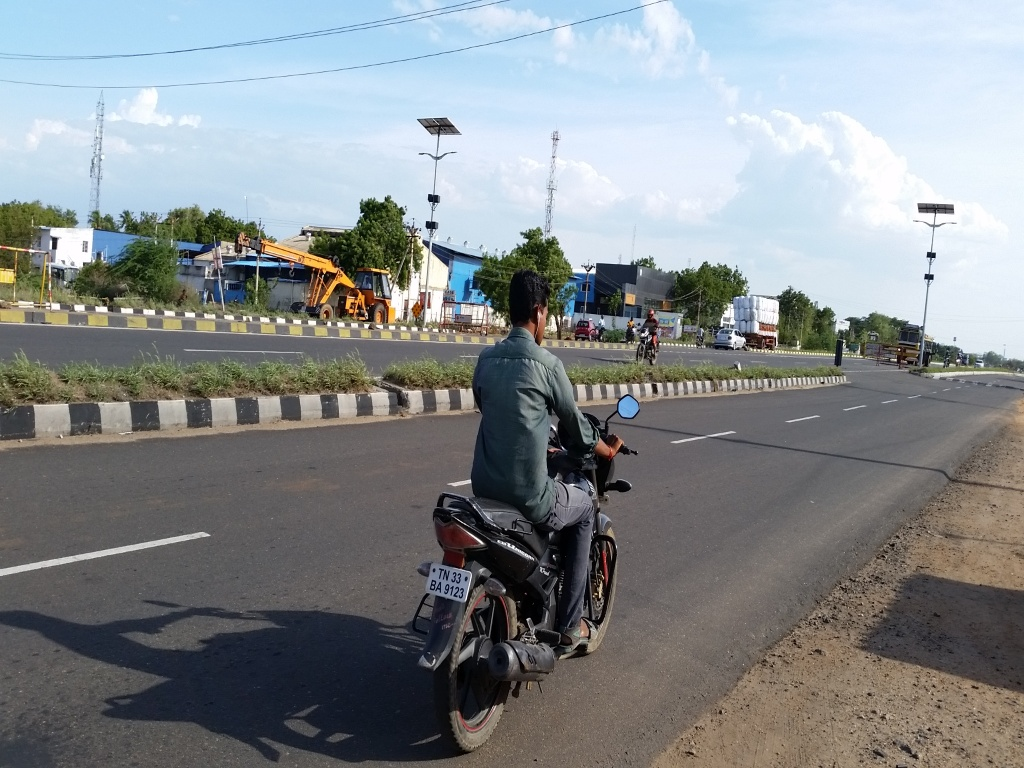biker: (386, 236, 642, 768), (624, 296, 672, 373)
helmet: (643, 304, 662, 325)
nohelmet: (503, 265, 558, 354)
